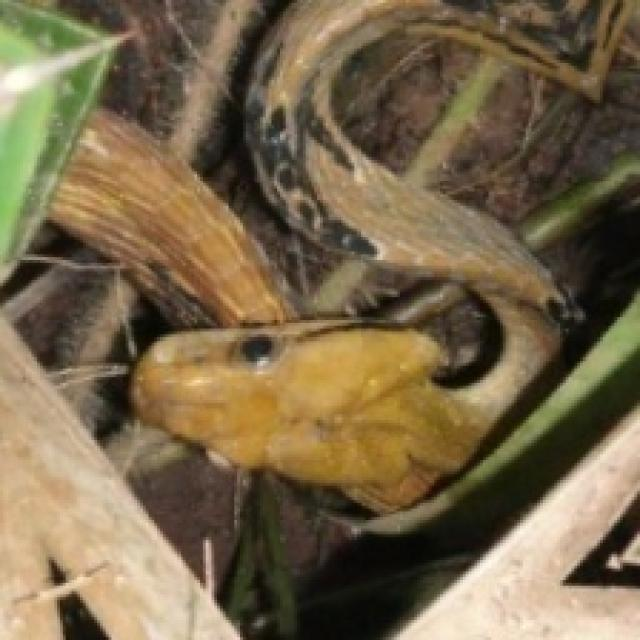dog-toothed cat snake: (49, 0, 637, 511), (40, 263, 131, 386)
